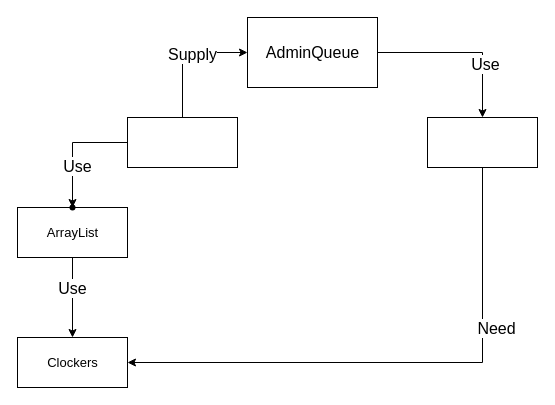
This 555x405 diagram has some shape labels left out. Here are the shapes that lost their labels. From the top down, the centre of each, then its label:
At (x=182, y=142): "ClockQueue".
At (x=482, y=142): "ClockersBuilder".
